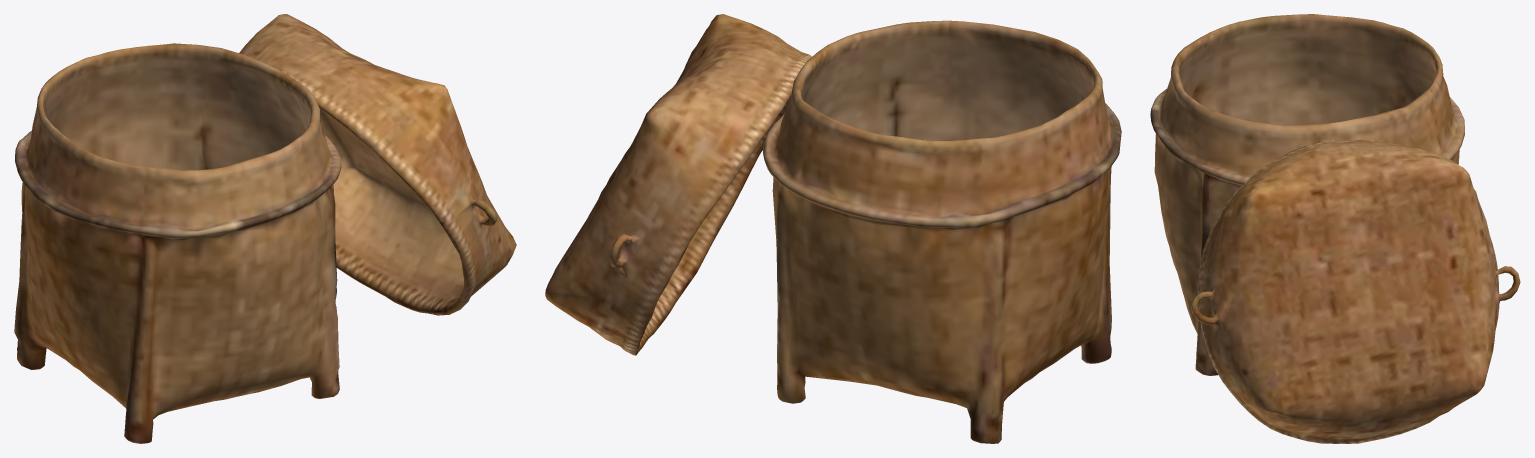
File: wicker_basket_02.glb
3 renders of one model, left to right at view 1: azimuth 30°, elevation 25°; view 2: azimuth 150°, elevation 25°; view 3: azimuth 270°, elevation 25°, orthographic. The views are drawn at different scales.
Visible parts, largest first — view 1: wicker_basket_02_base, wicker_basket_02_lid; view 2: wicker_basket_02_base, wicker_basket_02_lid; view 3: wicker_basket_02_lid, wicker_basket_02_base.
Boxes of the visible parts, <box> form: wicker_basket_02_base: <box>14,43,341,443</box>; wicker_basket_02_lid: <box>239,14,516,315</box>; wicker_basket_02_base: <box>763,20,1121,443</box>; wicker_basket_02_lid: <box>545,14,812,355</box>; wicker_basket_02_lid: <box>1190,140,1520,443</box>; wicker_basket_02_base: <box>1150,14,1464,375</box>.
Bounding box in the file's own units: 0.3469 × 0.2005 × 0.2544.
Materials: 1 (1 with a texture image).
